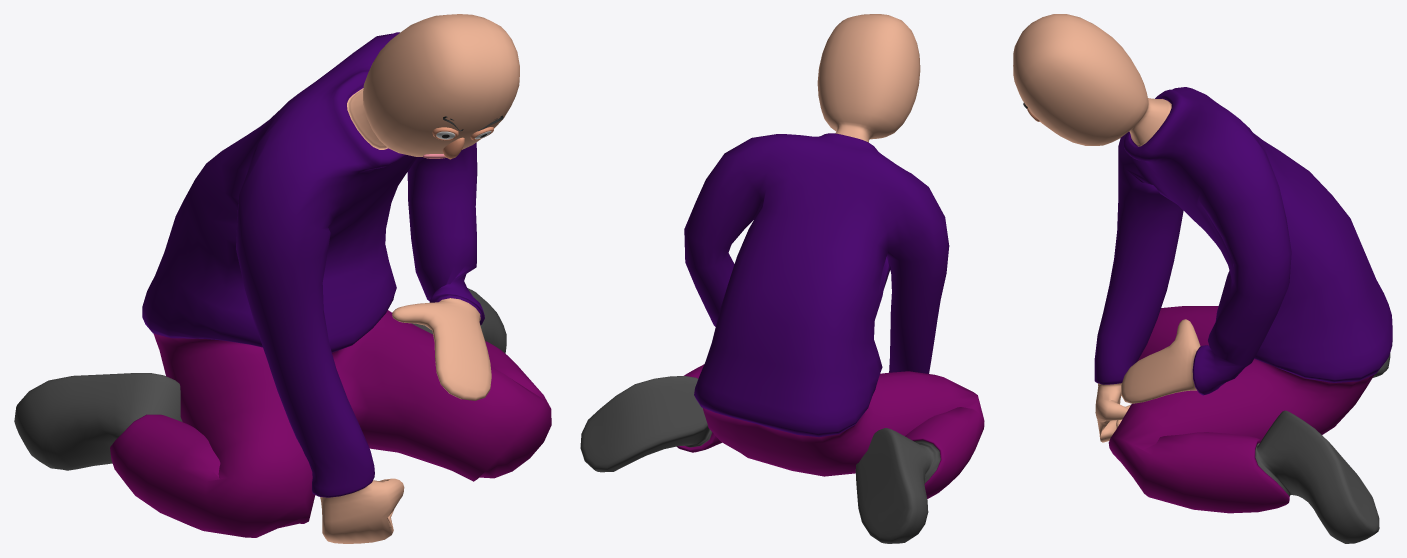
The model's file is JuniorFactory_SlicerClone_WizardPose_v2.1.fbx.
3 views of the same model, side by side, from view 1: azimuth 30°, elevation 25°; view 2: azimuth 150°, elevation 25°; view 3: azimuth 270°, elevation 25° (orthographic). The views are drawn at different scales.
Parts seen in each view (by area): view 1: Character.003; view 2: Character.003; view 3: Character.003.
Part boxes in pixels (bbox=[...]): Character.003: bbox=[14, 14, 551, 543]; Character.003: bbox=[580, 14, 984, 543]; Character.003: bbox=[1013, 14, 1392, 543].
Size of the model in its own units: 201 by 219 by 169.
